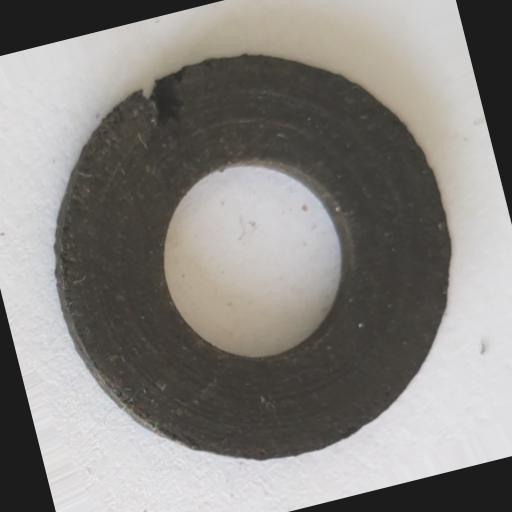defect: (134, 70, 196, 132)
